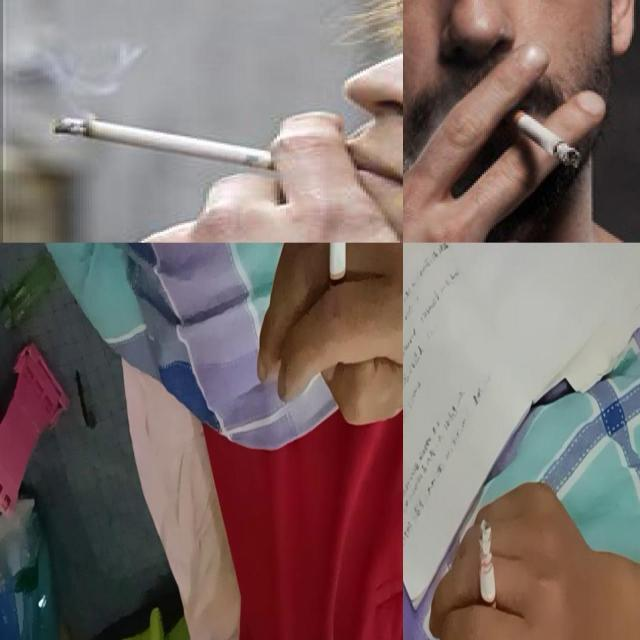smoking: (52, 116, 344, 178), (510, 108, 578, 166), (480, 520, 498, 628), (329, 243, 349, 318)
